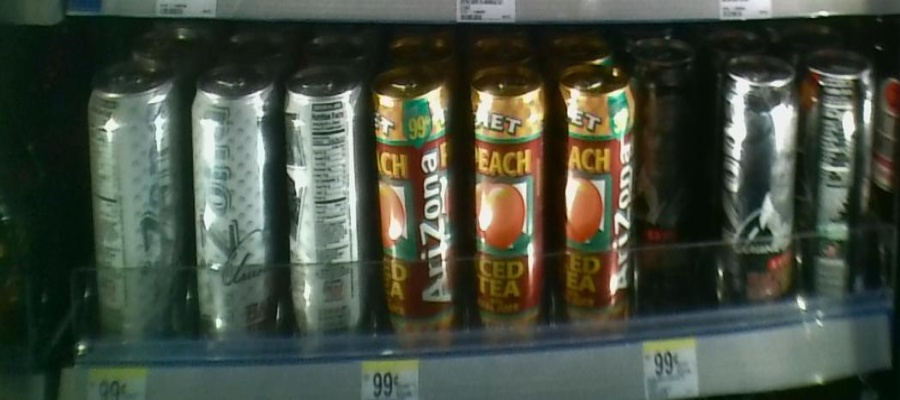bottle: (82, 46, 185, 366), (186, 61, 281, 359), (283, 54, 366, 372), (459, 62, 551, 346), (556, 53, 639, 351), (373, 68, 455, 361), (716, 50, 803, 317), (803, 43, 879, 310)
